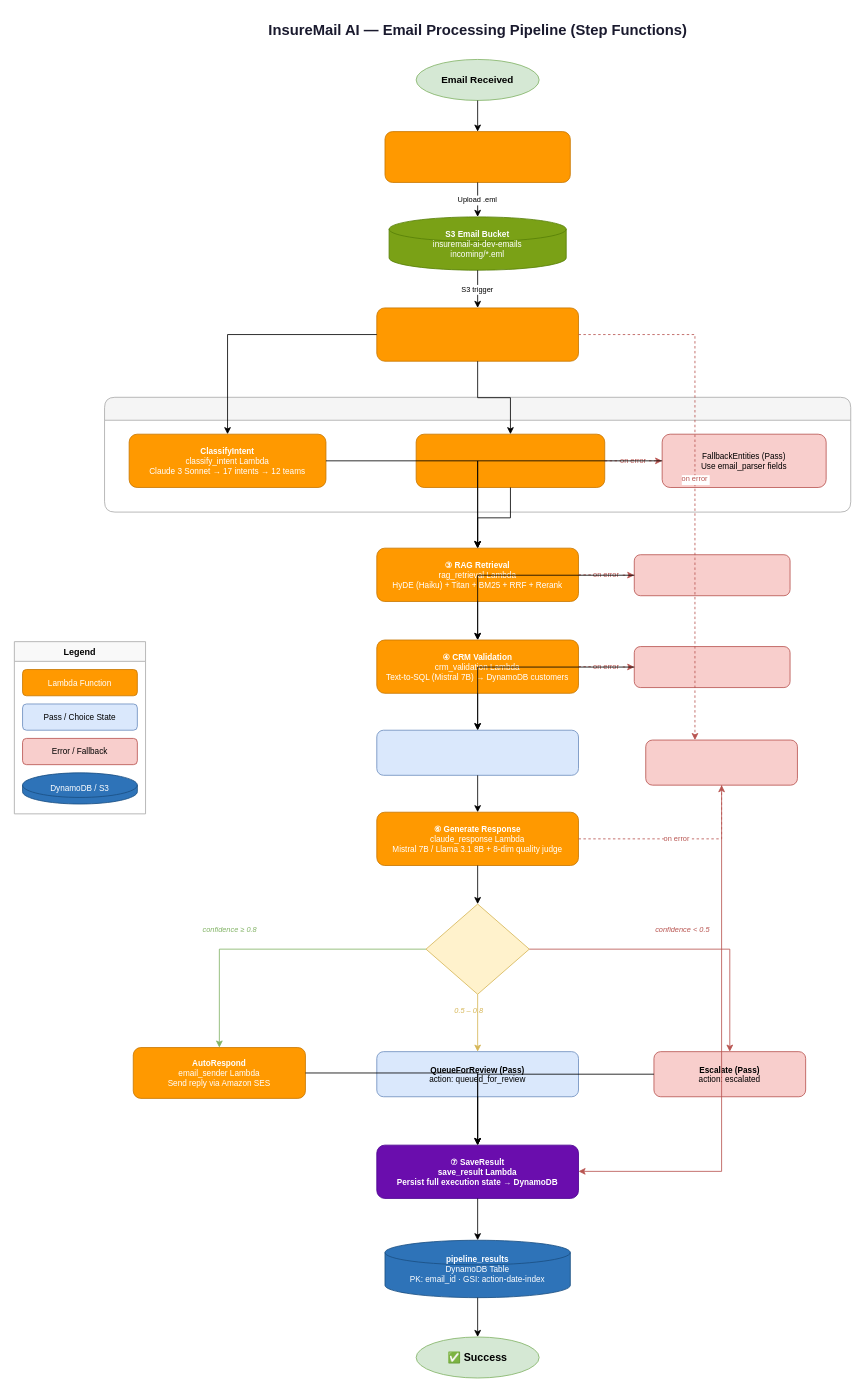
Some shapes in this 865 by 1392 pixel diagram are drawn without their labels. Here are the shapes that lost their labels. From the top down, the box of each, then its label:
(384, 131, 570, 182): Gmail IMAP Poller gmail_imap_poller Lambda Scheduled poll · builds .eml
(376, 307, 579, 361): ① ParseEmail email_parser Lambda RFC 2822 · PII redact · PDF/DOCX/TXT extract
(104, 396, 851, 512): ② Parallel Analysis
(415, 433, 605, 487): ExtractEntities extract_entity Lambda Textract OCR + Bedrock Claude
(633, 554, 790, 596): SetEmptyRAG (Pass) Empty doc list fallback
(633, 646, 790, 688): SetEmptyCRM (Pass) CRM lookup failed fallback
(376, 729, 579, 775): ⑤ Assess Fraud Risk (Pass) Rule-based · risk_level / risk_score
(645, 739, 797, 785): HandleError (Pass) action: error_escalation
(425, 903, 529, 994): Determine Action (Choice)
